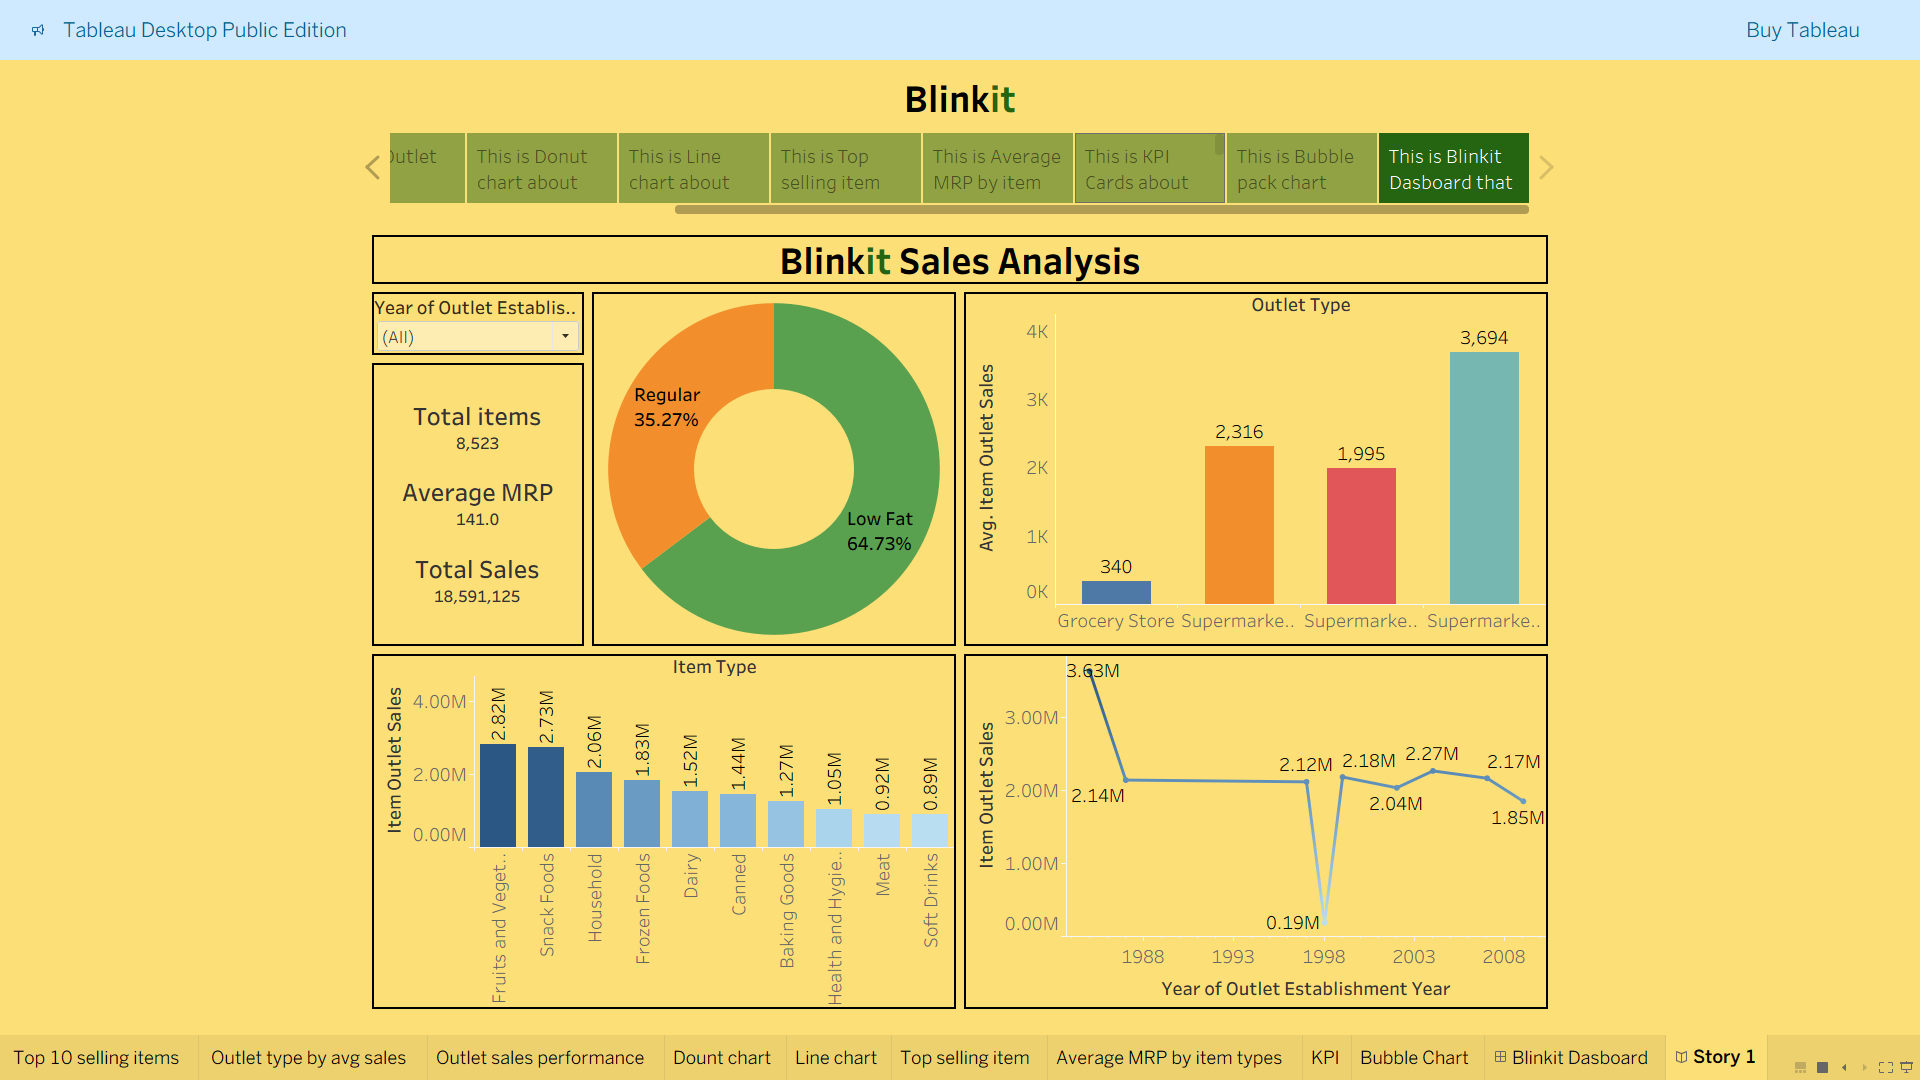

What the dashboard file says about the page in this screenshot:
{"tool":"tableau","page":{"name":"Blinkit Dasboard","canvas":[1000,1000],"units":"permille","ordinal":0},"visuals":[{"type":"title","box":[5,9.8,990,69.7]},{"type":"filter","title":" Top 10 selling items","param":"[federated.14hrnci022kokg17tbb520m2et4m].[yr:Outlet_Establishment_Year:ok]","box":[5,79.5,183.8,89]},{"type":"worksheet","title":"Dount chart","mark":"Pie","rows":["Calculation_0285939986608129","Calculation_0285939986632707"],"box":[188.8,79.5,310.9,455.2]},{"type":"worksheet","title":" Outlet type by avg sales","mark":"Automatic","rows":["Item_Outlet_Sales"],"cols":["Outlet_Type"],"box":[499.8,79.5,495.3,455.1]},{"type":"worksheet","title":"KPI","mark":"Automatic","box":[5,168.5,183.8,366.2]},{"type":"worksheet","title":" Top 10 selling items","mark":"Automatic","rows":["Item_Outlet_Sales"],"cols":["Item_Type"],"box":[5,534.6,494.8,455.6]},{"type":"worksheet","title":"Line chart","mark":"Automatic","rows":["Item_Outlet_Sales"],"cols":["Outlet_Establishment_Year"],"box":[499.8,534.6,495.3,455.7]}]}

Visuals, with their boxes on the dashboard's canvas, which has no fixed pixel size, in thousandths of its width and height (x1, y1, x2, y2). These are canvas units, not pixel positions in the 1920x1080 screenshot, which may show the page scaled, cropped or inside an application window:
title: [left=5, top=10, right=995, bottom=80]
" Top 10 selling items" filter: [left=5, top=80, right=189, bottom=168]
"Dount chart" worksheet (Pie marks): [left=189, top=80, right=500, bottom=535]
" Outlet type by avg sales" worksheet: [left=500, top=80, right=995, bottom=535]
"KPI" worksheet: [left=5, top=168, right=189, bottom=535]
" Top 10 selling items" worksheet: [left=5, top=535, right=500, bottom=990]
"Line chart" worksheet: [left=500, top=535, right=995, bottom=990]
